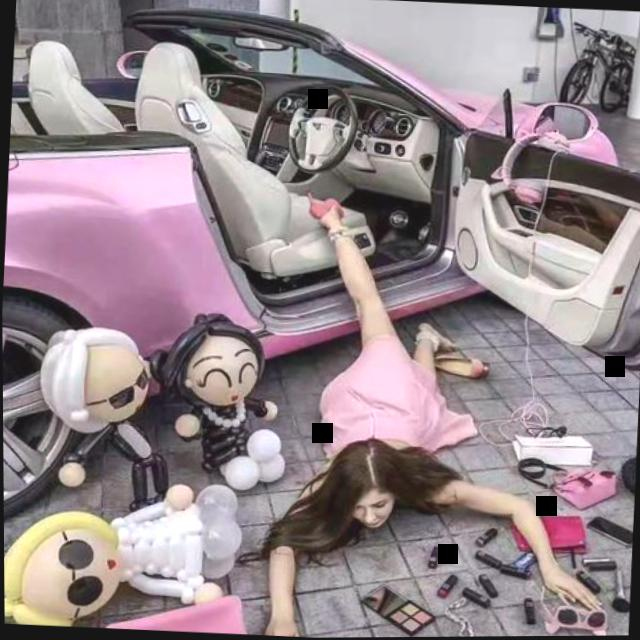Fall-Detected: (242, 162, 615, 639)
